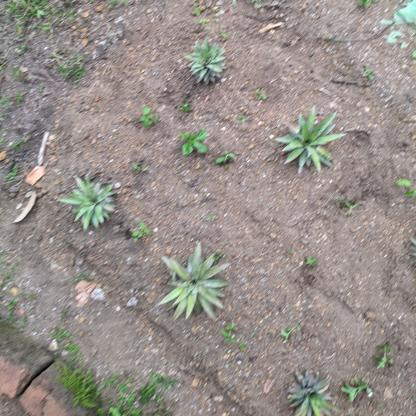pineapple: (152, 239, 229, 324), (272, 104, 347, 175), (55, 172, 120, 229), (183, 38, 233, 88), (287, 366, 336, 416)
weed: (179, 128, 238, 167), (340, 373, 372, 406), (374, 342, 400, 377), (136, 106, 163, 131)
